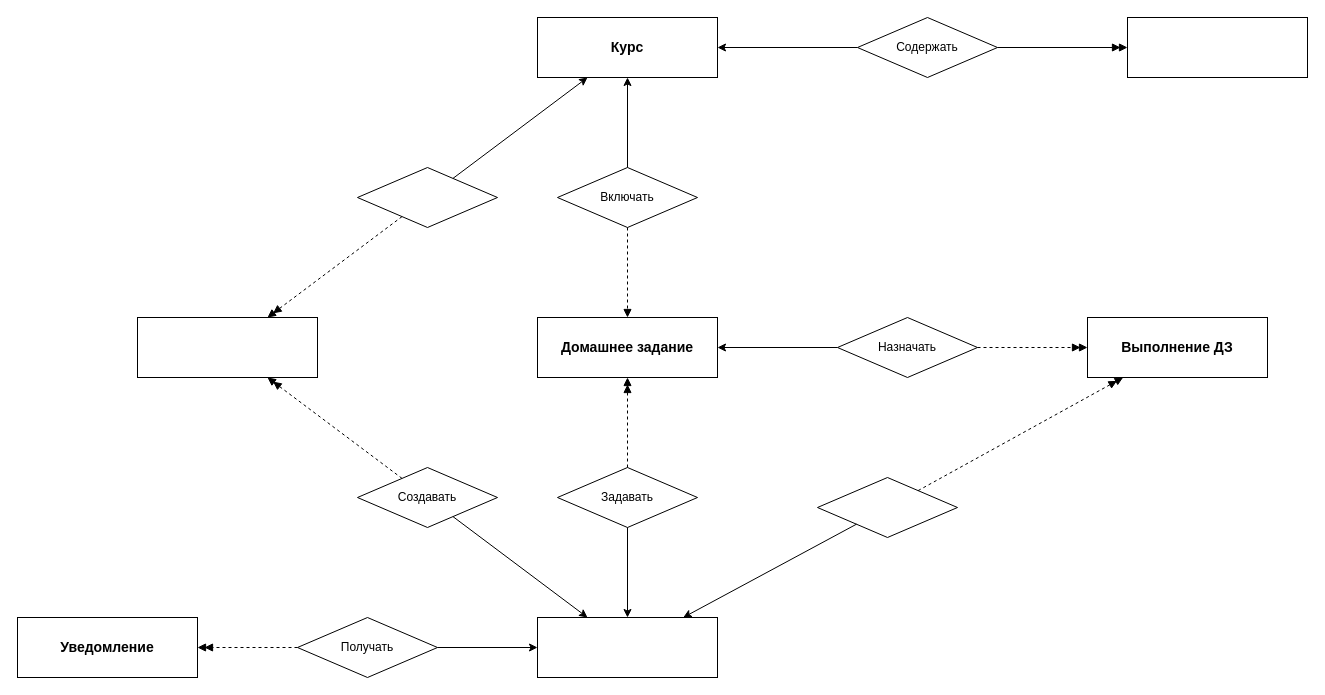
The diagram is 1325 pixels wide and 695 high, and some of its shapes have lost their labels. The box of each missing label's shape, as (x1, y1, x2, y2) in pixels:
Выполнять: (816, 476, 958, 538)
Относить: (356, 166, 498, 228)
Пользователь: (536, 616, 718, 678)
Урок: (1126, 16, 1308, 78)
Шаблон ДЗ: (136, 316, 318, 378)
